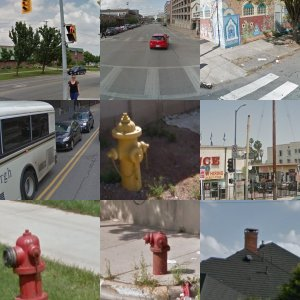公車: (8, 126, 100, 183), (238, 248, 293, 294), (31, 46, 72, 93)
汽車: (42, 264, 71, 290), (1, 260, 25, 280), (231, 61, 253, 76), (130, 144, 146, 160), (147, 261, 168, 272)
紅綠燈: (12, 218, 89, 237)
